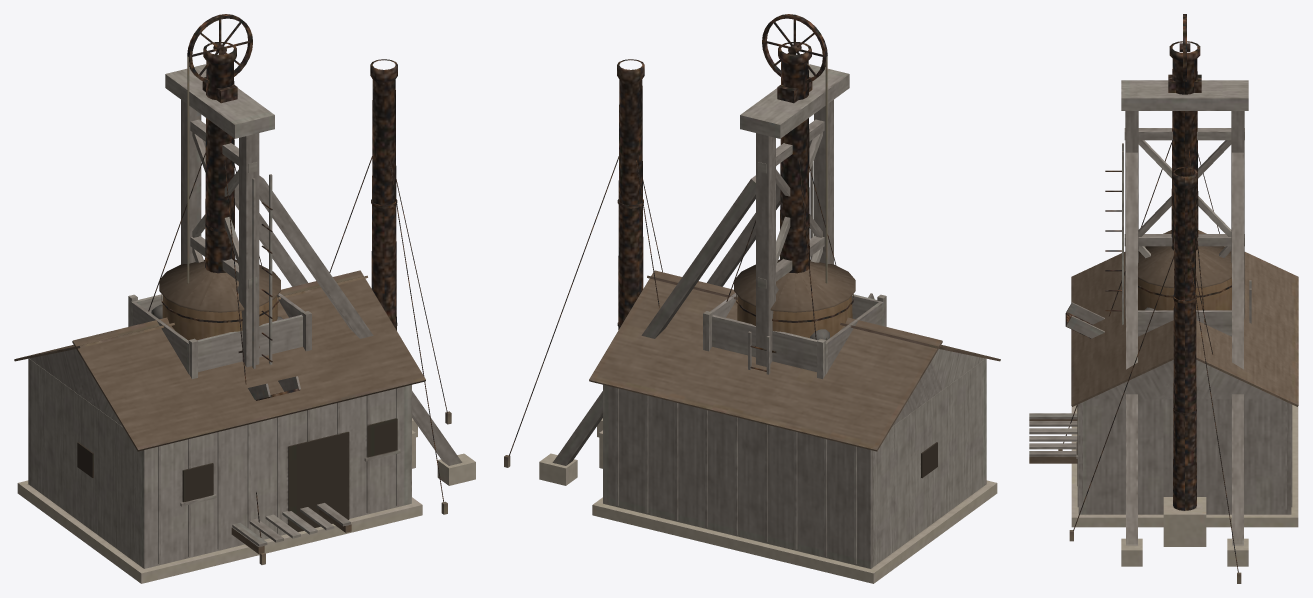
The model's file is mine.glb.
3 views of the same model, side by side, from view 1: azimuth 30°, elevation 25°; view 2: azimuth 150°, elevation 25°; view 3: azimuth 270°, elevation 25° (orthographic). The views are drawn at different scales.
Parts seen in each view (by area): view 1: hoist_house, headframe, water_tank, ore_bin, smokestack; view 2: hoist_house, headframe, water_tank, ore_bin, smokestack; view 3: hoist_house, headframe, water_tank, smokestack, ore_bin.
Boxes of the visible parts, <box> form: hoist_house: <box>14,59,451,583</box>; headframe: <box>165,14,475,553</box>; water_tank: <box>159,259,280,352</box>; ore_bin: <box>128,293,311,400</box>; smokestack: <box>148,42,265,564</box>; hoist_house: <box>504,59,1000,583</box>; headframe: <box>539,14,849,485</box>; water_tank: <box>734,259,855,352</box>; ore_bin: <box>703,293,886,379</box>; smokestack: <box>726,42,836,339</box>; hoist_house: <box>1069,167,1298,583</box>; headframe: <box>1029,14,1248,566</box>; water_tank: <box>1138,246,1231,310</box>; smokestack: <box>1058,41,1219,450</box>; ore_bin: <box>1065,280,1251,338</box>.
Size of the model in its own units: 12.07 by 14.05 by 7.61.
Materials: 1 (1 with a texture image).
